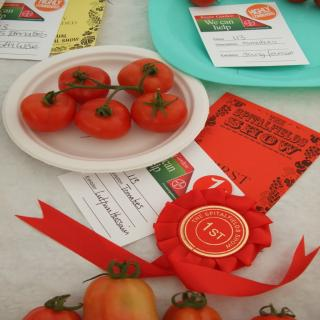tomato: (84, 258, 161, 320), (19, 86, 80, 132), (74, 89, 130, 139), (129, 88, 188, 133), (116, 57, 174, 100), (57, 64, 112, 103), (163, 292, 224, 320), (23, 295, 84, 320), (248, 304, 296, 319)
